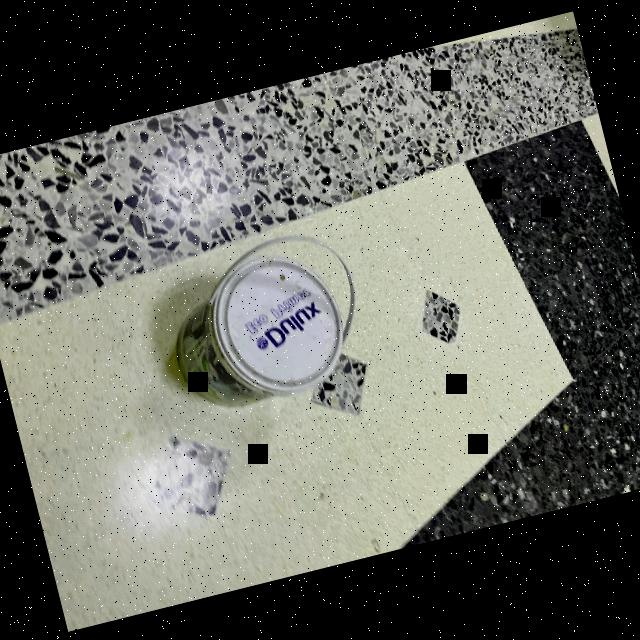paint_bucket: (140, 212, 382, 432)
